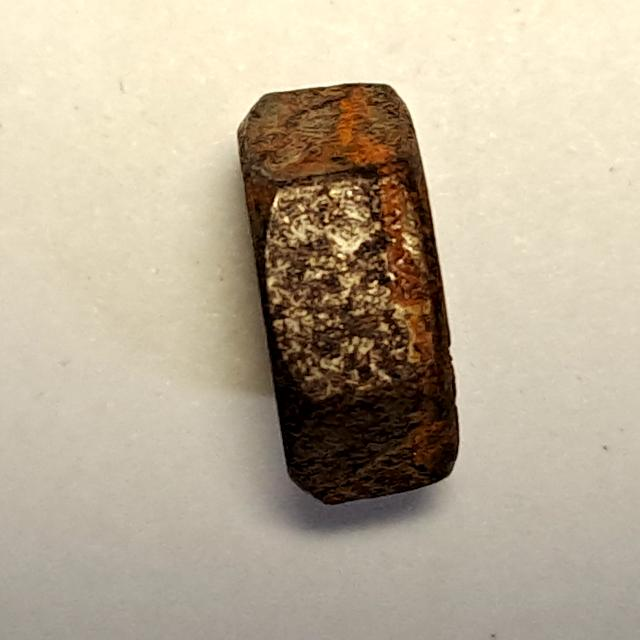Side_Rust: (220, 72, 491, 525)
